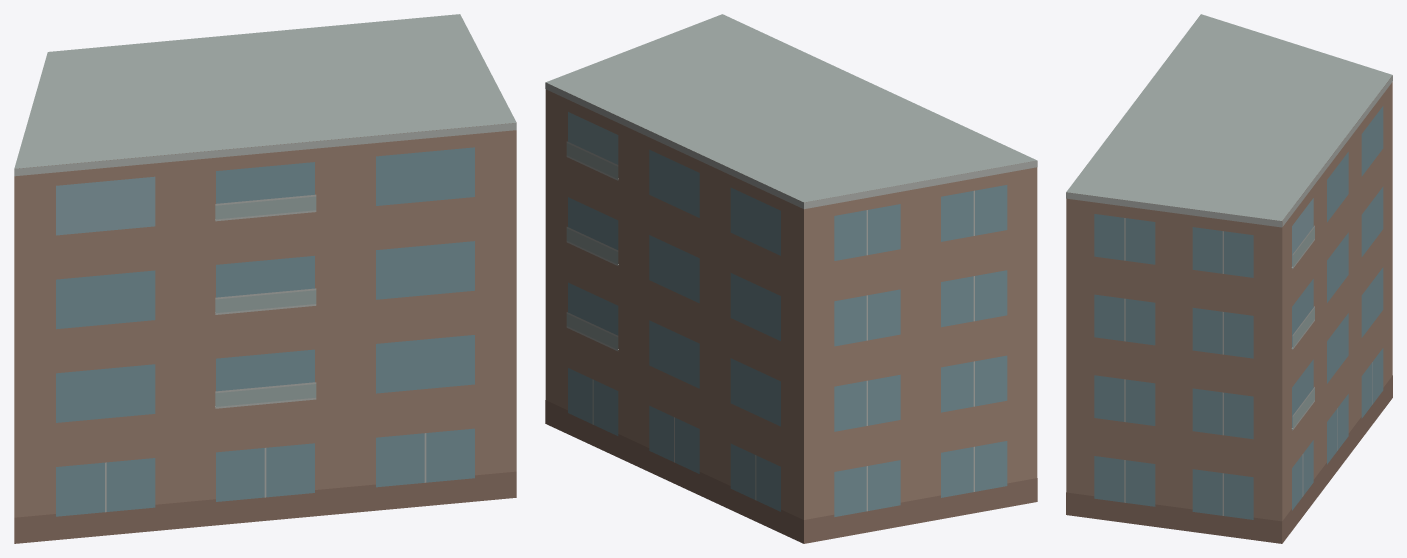
The model's file is survey-upis-33039467.glb.
3 views of the same model, side by side, from view 1: azimuth 30°, elevation 25°; view 2: azimuth 150°, elevation 25°; view 3: azimuth 270°, elevation 25° (orthographic). The views are drawn at different scales.
Parts seen in each view (by area): view 1: survey-upis-33039467.tmp; view 2: survey-upis-33039467.tmp; view 3: survey-upis-33039467.tmp.
Boxes of the visible parts, x1,y1,x2,y2 form: survey-upis-33039467.tmp: [14, 14, 516, 543]; survey-upis-33039467.tmp: [545, 14, 1037, 543]; survey-upis-33039467.tmp: [1066, 14, 1392, 543].
Size of the model in its own units: 16.94 by 12.3 by 11.29.
